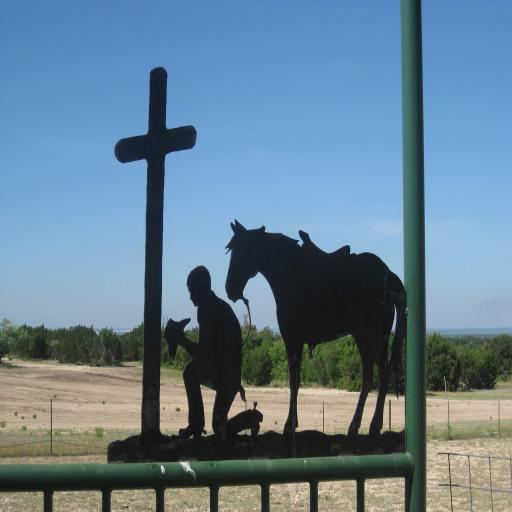horse: (225, 217, 409, 438)
